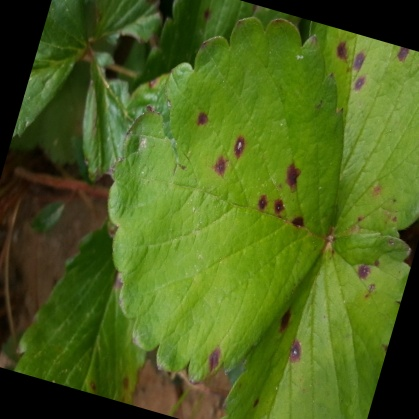Leaf_Spot: (101, 6, 331, 381), (254, 0, 418, 235), (271, 184, 418, 418), (63, 246, 190, 418), (99, 0, 256, 119)
